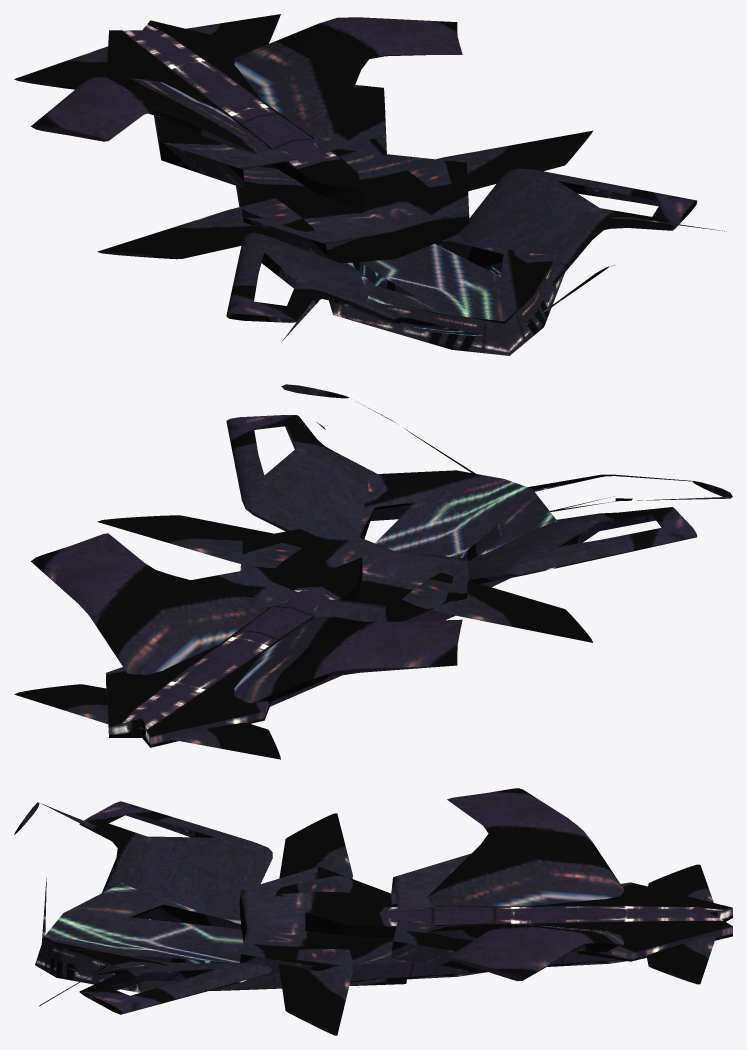
The model's file is Zorving.fbx.
The picture shows the model from 3 angles, top to bottom: view 1: azimuth 30°, elevation 25°; view 2: azimuth 150°, elevation 25°; view 3: azimuth 270°, elevation 25°; orthographic projection. The views are drawn at different scales.
Parts seen in each view (by area): view 1: 00_Core, 06_FrontRight, 05_FrontLeft, 02_RearRight, 01_RearLeft, 03_WingLEft, 04_WingRight; view 2: 06_FrontRight, 00_Core, 05_FrontLeft, 02_RearRight, 01_RearLeft, 03_WingLEft, 04_WingRight; view 3: 00_Core, 05_FrontLeft, 06_FrontRight, 01_RearLeft, 02_RearRight, 04_WingRight, 03_WingLEft.
Boxes of the visible parts, bbox=[...] form: 00_Core: bbox=[218, 86, 543, 355]; 06_FrontRight: bbox=[142, 14, 462, 161]; 05_FrontLeft: bbox=[14, 30, 301, 190]; 02_RearRight: bbox=[458, 168, 726, 330]; 01_RearLeft: bbox=[226, 232, 490, 349]; 03_WingLEft: bbox=[97, 198, 314, 259]; 04_WingRight: bbox=[402, 130, 592, 199]; 06_FrontRight: bbox=[14, 533, 301, 737]; 00_Core: bbox=[218, 470, 531, 662]; 05_FrontLeft: bbox=[141, 598, 462, 759]; 02_RearRight: bbox=[226, 384, 475, 535]; 01_RearLeft: bbox=[469, 474, 732, 583]; 03_WingLEft: bbox=[402, 573, 592, 642]; 04_WingRight: bbox=[97, 515, 314, 571]; 00_Core: bbox=[35, 866, 569, 992]; 05_FrontLeft: bbox=[391, 788, 732, 921]; 06_FrontRight: bbox=[391, 913, 732, 984]; 01_RearLeft: bbox=[14, 801, 272, 943]; 02_RearRight: bbox=[39, 947, 272, 1014]; 04_WingRight: bbox=[276, 949, 352, 1035]; 03_WingLEft: bbox=[276, 813, 352, 896].
Size of the model in its own units: 14639 by 3381 by 19979.
1 material, 1 textured.
